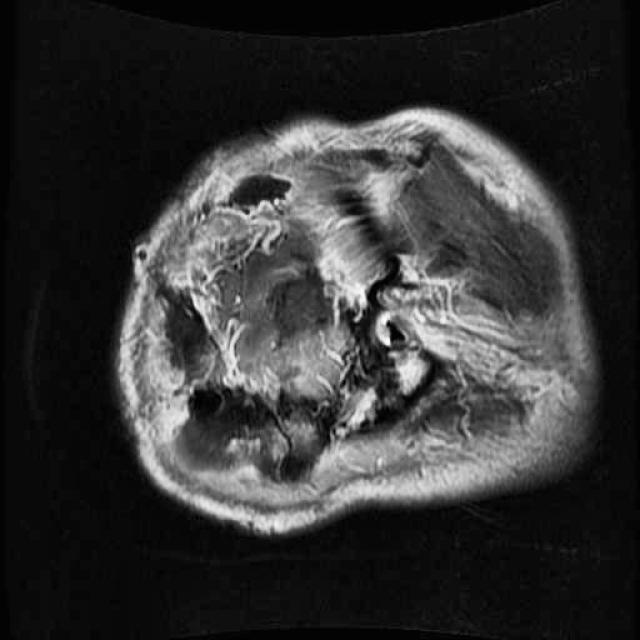Non-Tumor: (168, 358, 331, 486)
